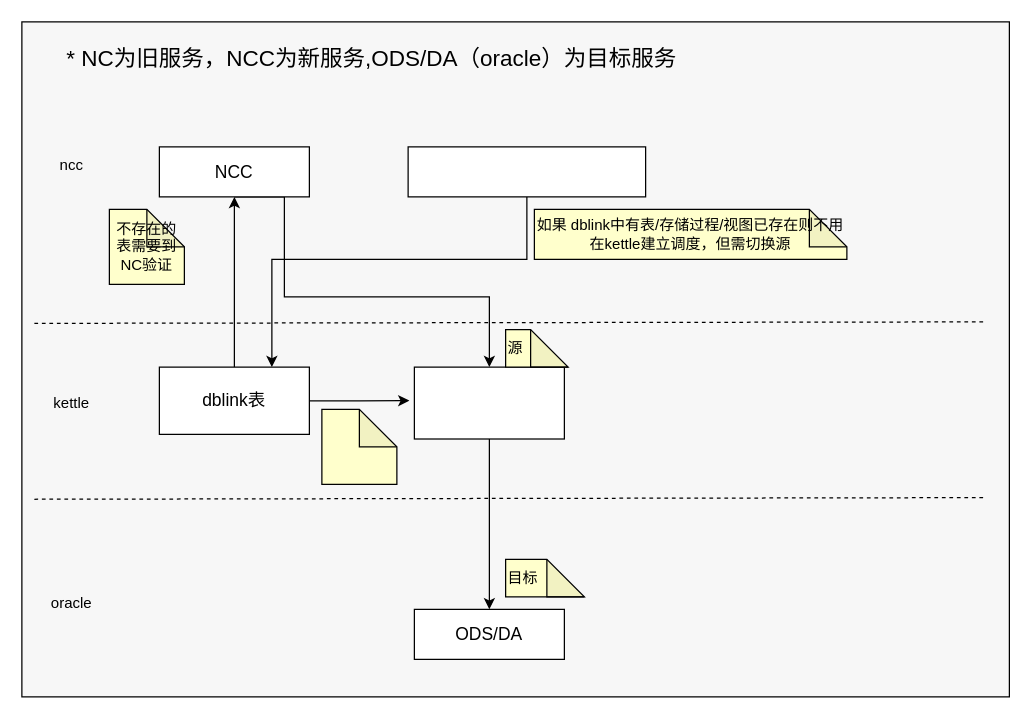
This 1031x719 diagram has some shape labels left out. Here are the shapes that lost their labels. From the top down, the centre of each, then its label:
At (526,171): "kettle_list_new+kettle_list_old".
At (488,402): "在kettle建立调度".
At (359,446): "根据表名/视图建立新调度".
